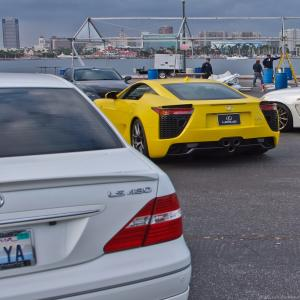Vehicle-registration-plate: (1, 228, 38, 272), (215, 114, 244, 127)
